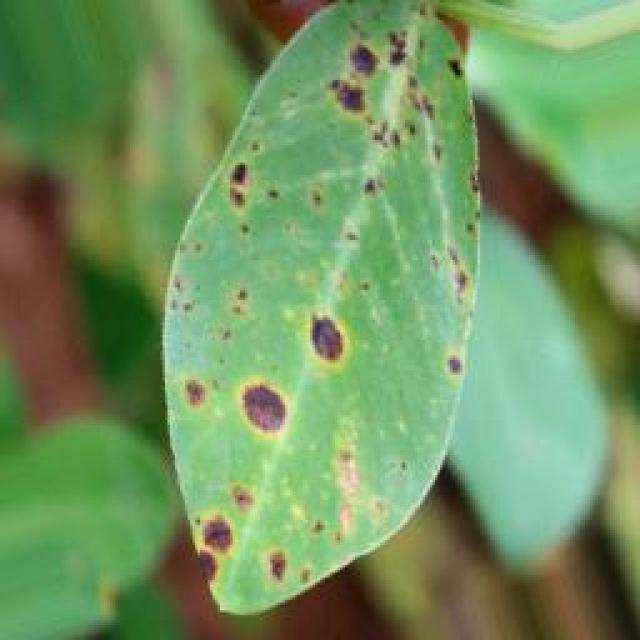Yellowish: (104, 0, 495, 596)
